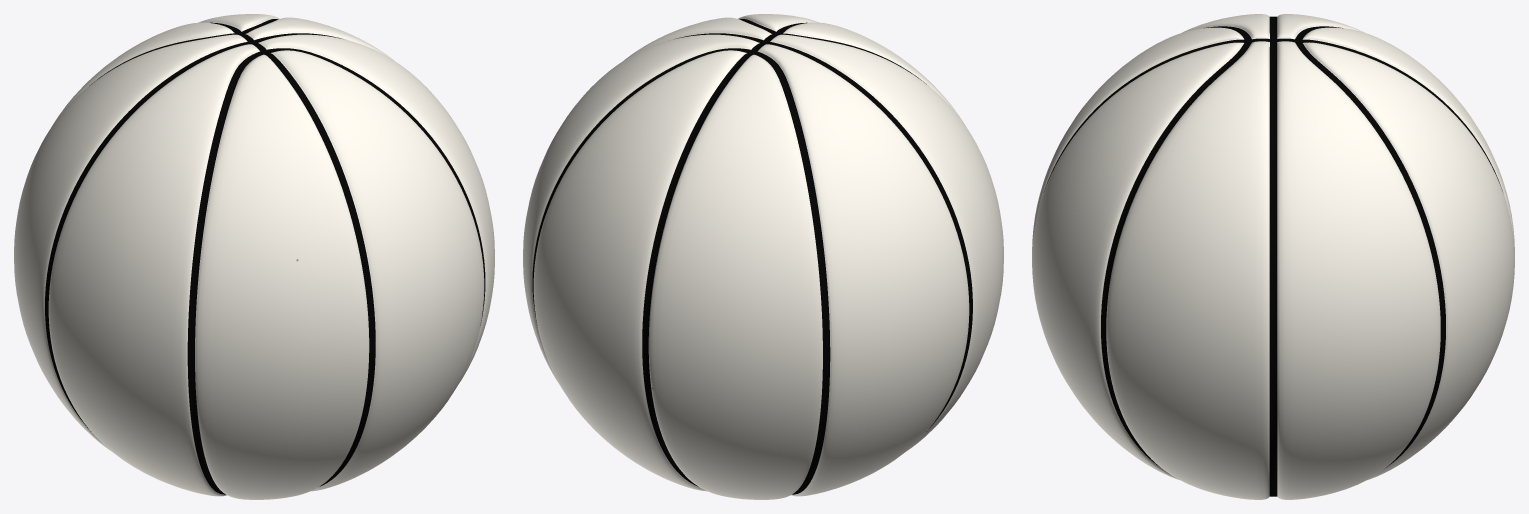
Rendered from item4.fbx.
3 views of the same model, side by side, from view 1: azimuth 30°, elevation 25°; view 2: azimuth 150°, elevation 25°; view 3: azimuth 270°, elevation 25° (orthographic).
Visible parts, largest first — view 1: Item0.004; view 2: Item0.004; view 3: Item0.004.
Part boxes in pixels (left/top/right/bottom): Item0.004: left=14, top=14, right=494, bottom=499; Item0.004: left=523, top=14, right=1003, bottom=499; Item0.004: left=1032, top=14, right=1514, bottom=499.
Size of the model in its own units: 193 by 194 by 193.
1 material, 1 textured.
